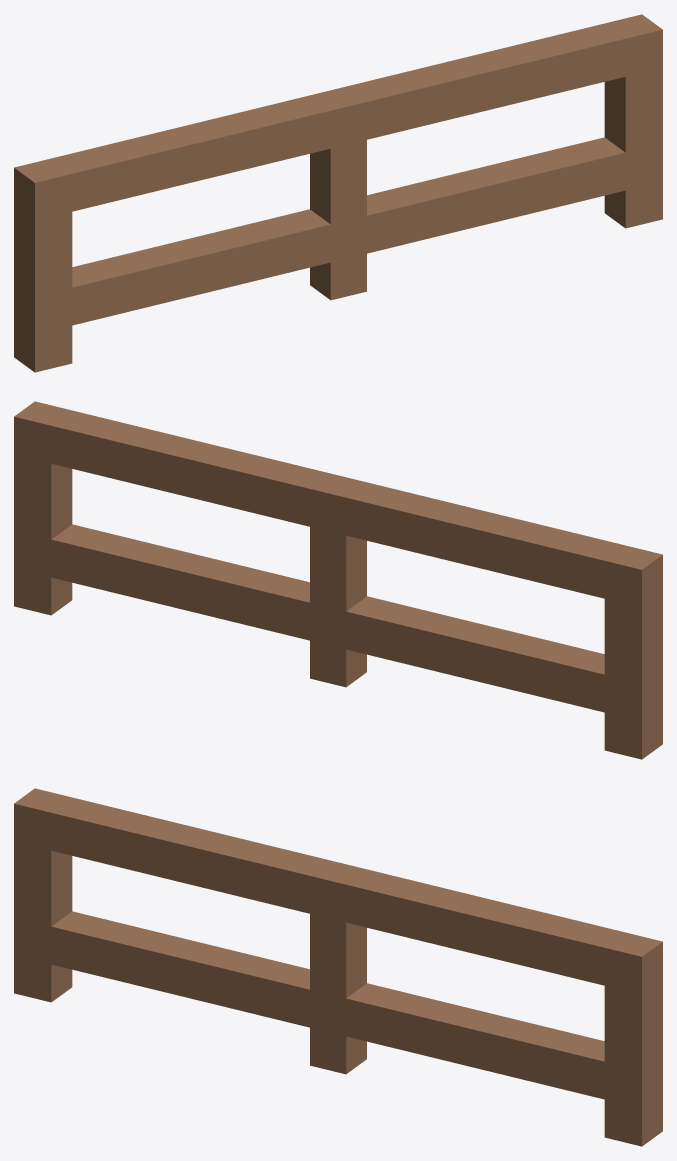
Rendered from fence5.fbx.
The picture shows the model from 3 angles, top to bottom: view 1: azimuth 30°, elevation 25°; view 2: azimuth 150°, elevation 25°; view 3: azimuth 330°, elevation 25°; orthographic projection.
Parts seen in each view (by area): view 1: Cylinder; view 2: Cylinder; view 3: Cylinder.
Boxes of the visible parts, bbox=[...] form: Cylinder: bbox=[14, 14, 662, 372]; Cylinder: bbox=[14, 401, 662, 759]; Cylinder: bbox=[14, 788, 662, 1146].
Bounding box in the file's own units: 1.73 × 0.5 × 0.1.
